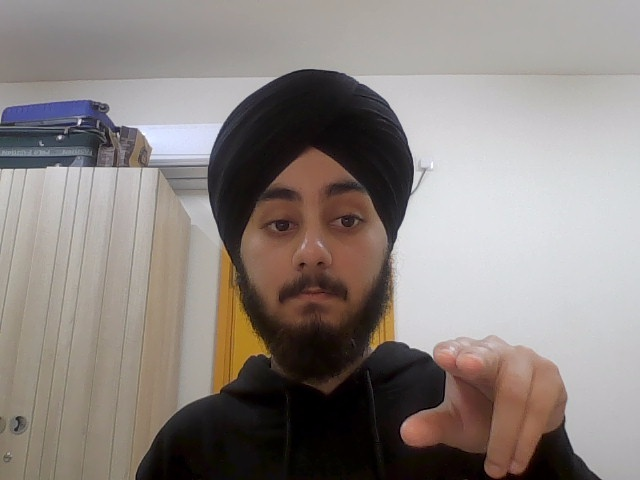No: (398, 327, 577, 480)
